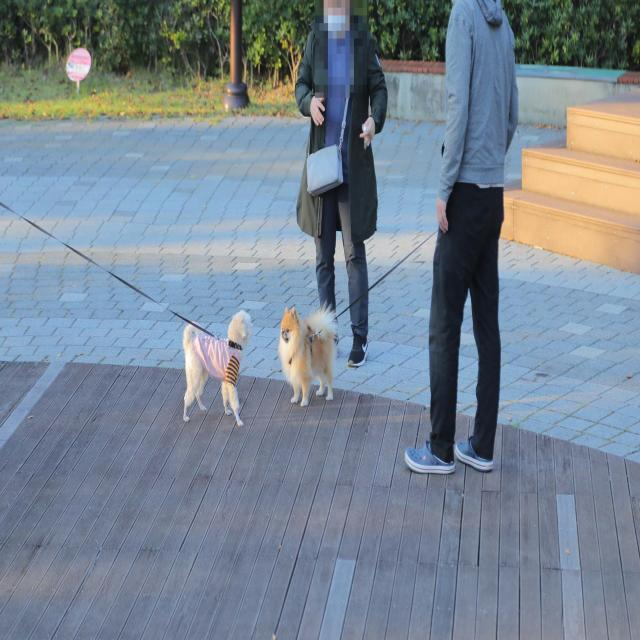Dog: (183, 311, 254, 426)
Leashed_Dog: (277, 211, 454, 406)
